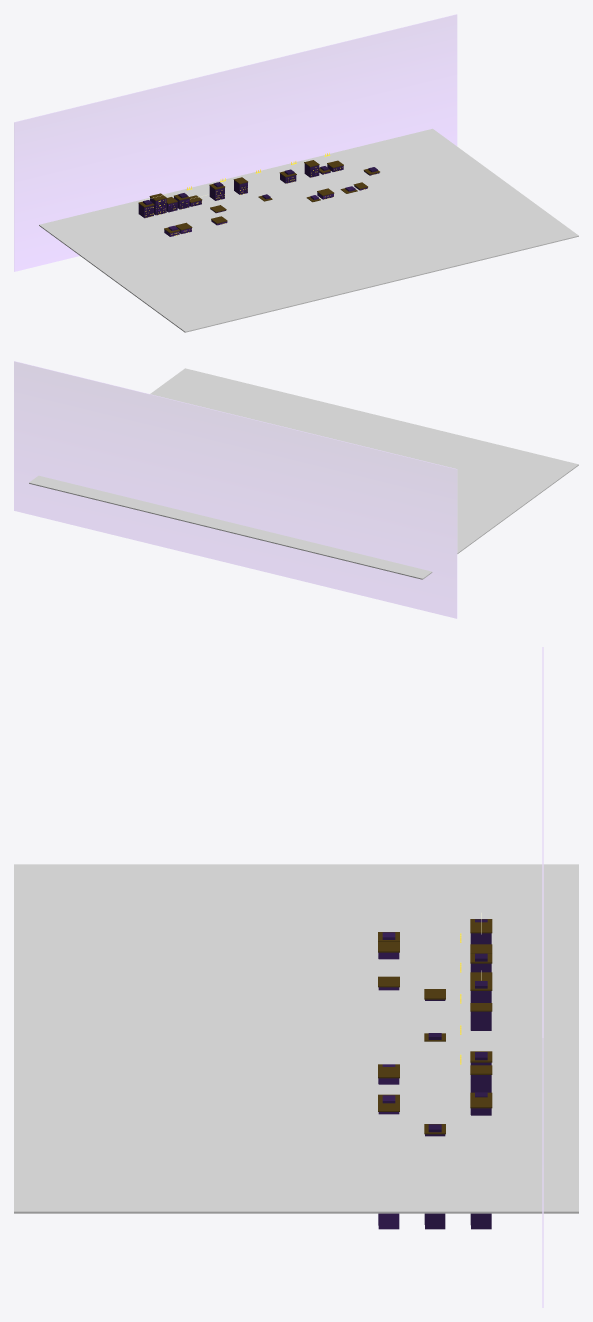
The model's file is crowncity.glb.
3 views of the same model, one above another, from view 1: azimuth 30°, elevation 25°; view 2: azimuth 150°, elevation 25°; view 3: azimuth 270°, elevation 25° (orthographic). The views are drawn at different scales.
Visible parts, largest first — view 1: Ground contact / transparent shadow receiver.073, Sky gradient / editable material.073, World / terrain and architecture.036; view 2: Sky gradient / editable material.073, Ground contact / transparent shadow receiver.073; view 3: Ground contact / transparent shadow receiver.073, World / terrain and architecture.036, Sky gradient / editable material.073.
Boxes of the visible parts, x1,y1,x2,y2 form: Ground contact / transparent shadow receiver.073: [39, 128, 578, 332]; Sky gradient / editable material.073: [14, 14, 457, 271]; World / terrain and architecture.036: [138, 160, 379, 236]; Sky gradient / editable material.073: [14, 361, 457, 618]; Ground contact / transparent shadow receiver.073: [29, 368, 578, 579]; Ground contact / transparent shadow receiver.073: [14, 864, 578, 1213]; World / terrain and architecture.036: [378, 919, 492, 1229]; Sky gradient / editable material.073: [542, 647, 543, 1307].
Size of the model in its own units: 180 by 62 by 110.
